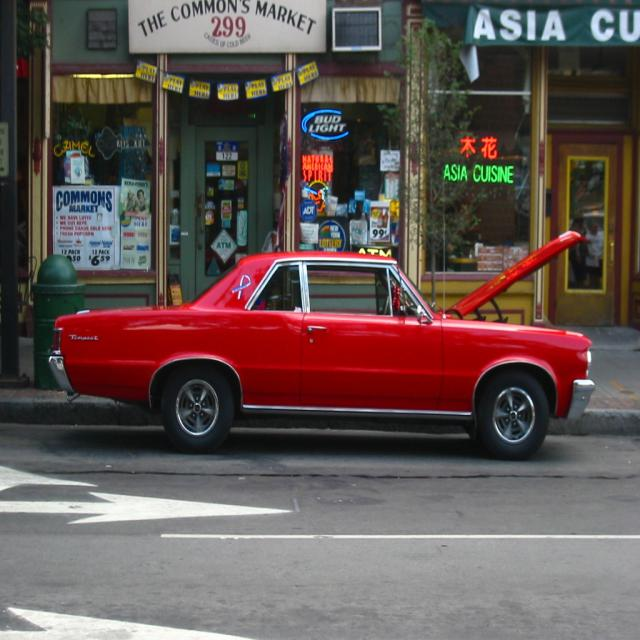car: (47, 192, 594, 460)
